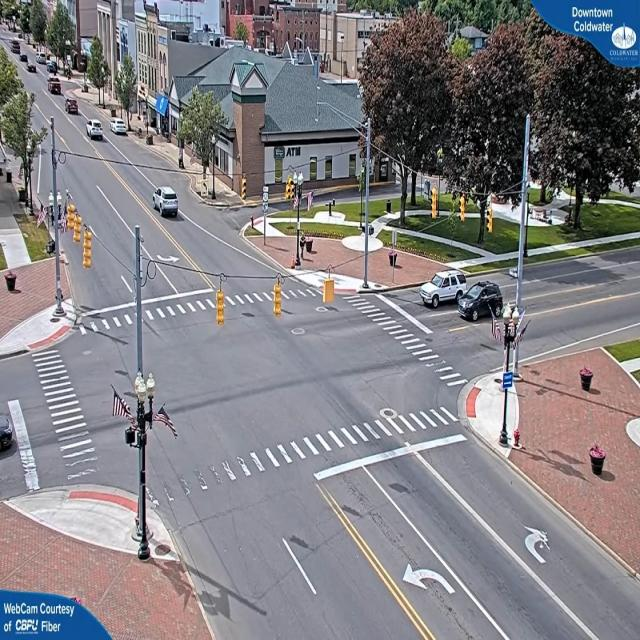car: (461, 280, 504, 324), (421, 271, 468, 310), (151, 186, 182, 218), (87, 121, 104, 141), (111, 120, 129, 138), (48, 77, 63, 96), (66, 98, 80, 115)
